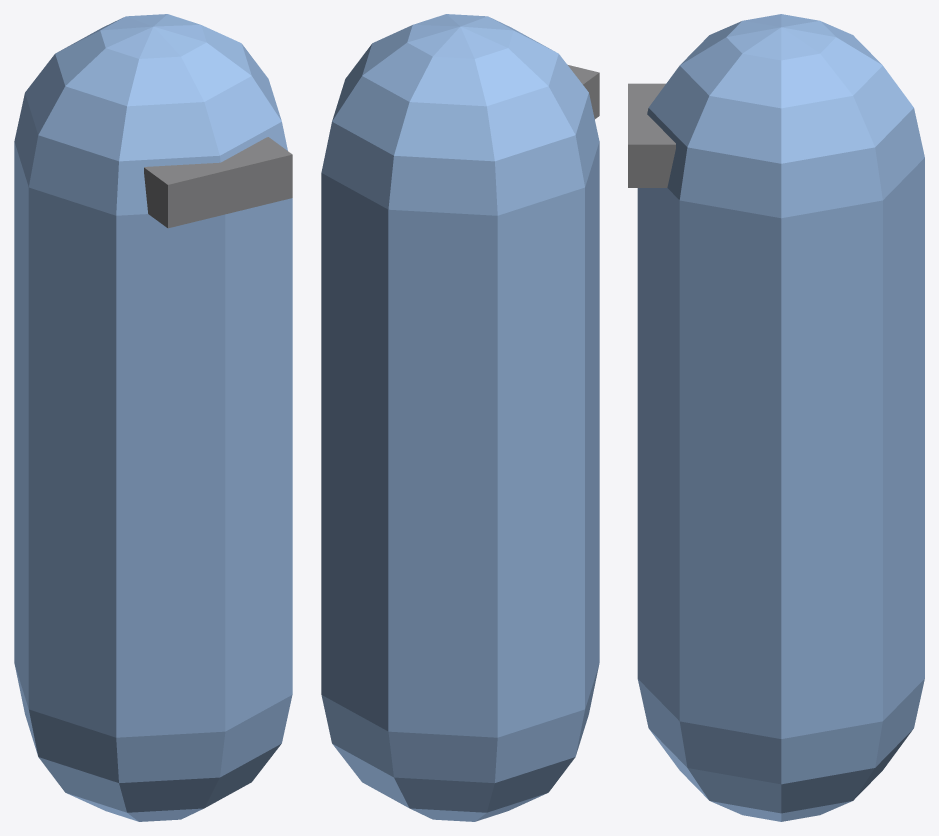
The model's file is player_scale_ref.glb.
The picture shows the model from 3 angles, left to right: view 1: azimuth 30°, elevation 25°; view 2: azimuth 150°, elevation 25°; view 3: azimuth 270°, elevation 25°; orthographic projection.
Parts seen in each view (by area): view 1: player_scale_ref_player, player_scale_ref_dark; view 2: player_scale_ref_player, player_scale_ref_dark; view 3: player_scale_ref_player, player_scale_ref_dark.
Part boxes in pixels (x1,y1,x2,y2): player_scale_ref_player: (14,14,292,821); player_scale_ref_dark: (144,137,292,228); player_scale_ref_player: (321,14,599,821); player_scale_ref_dark: (567,64,599,119); player_scale_ref_player: (637,14,924,821); player_scale_ref_dark: (628,83,675,187).
Bounding box in the file's own units: 0.6 × 1.8 × 0.62.
